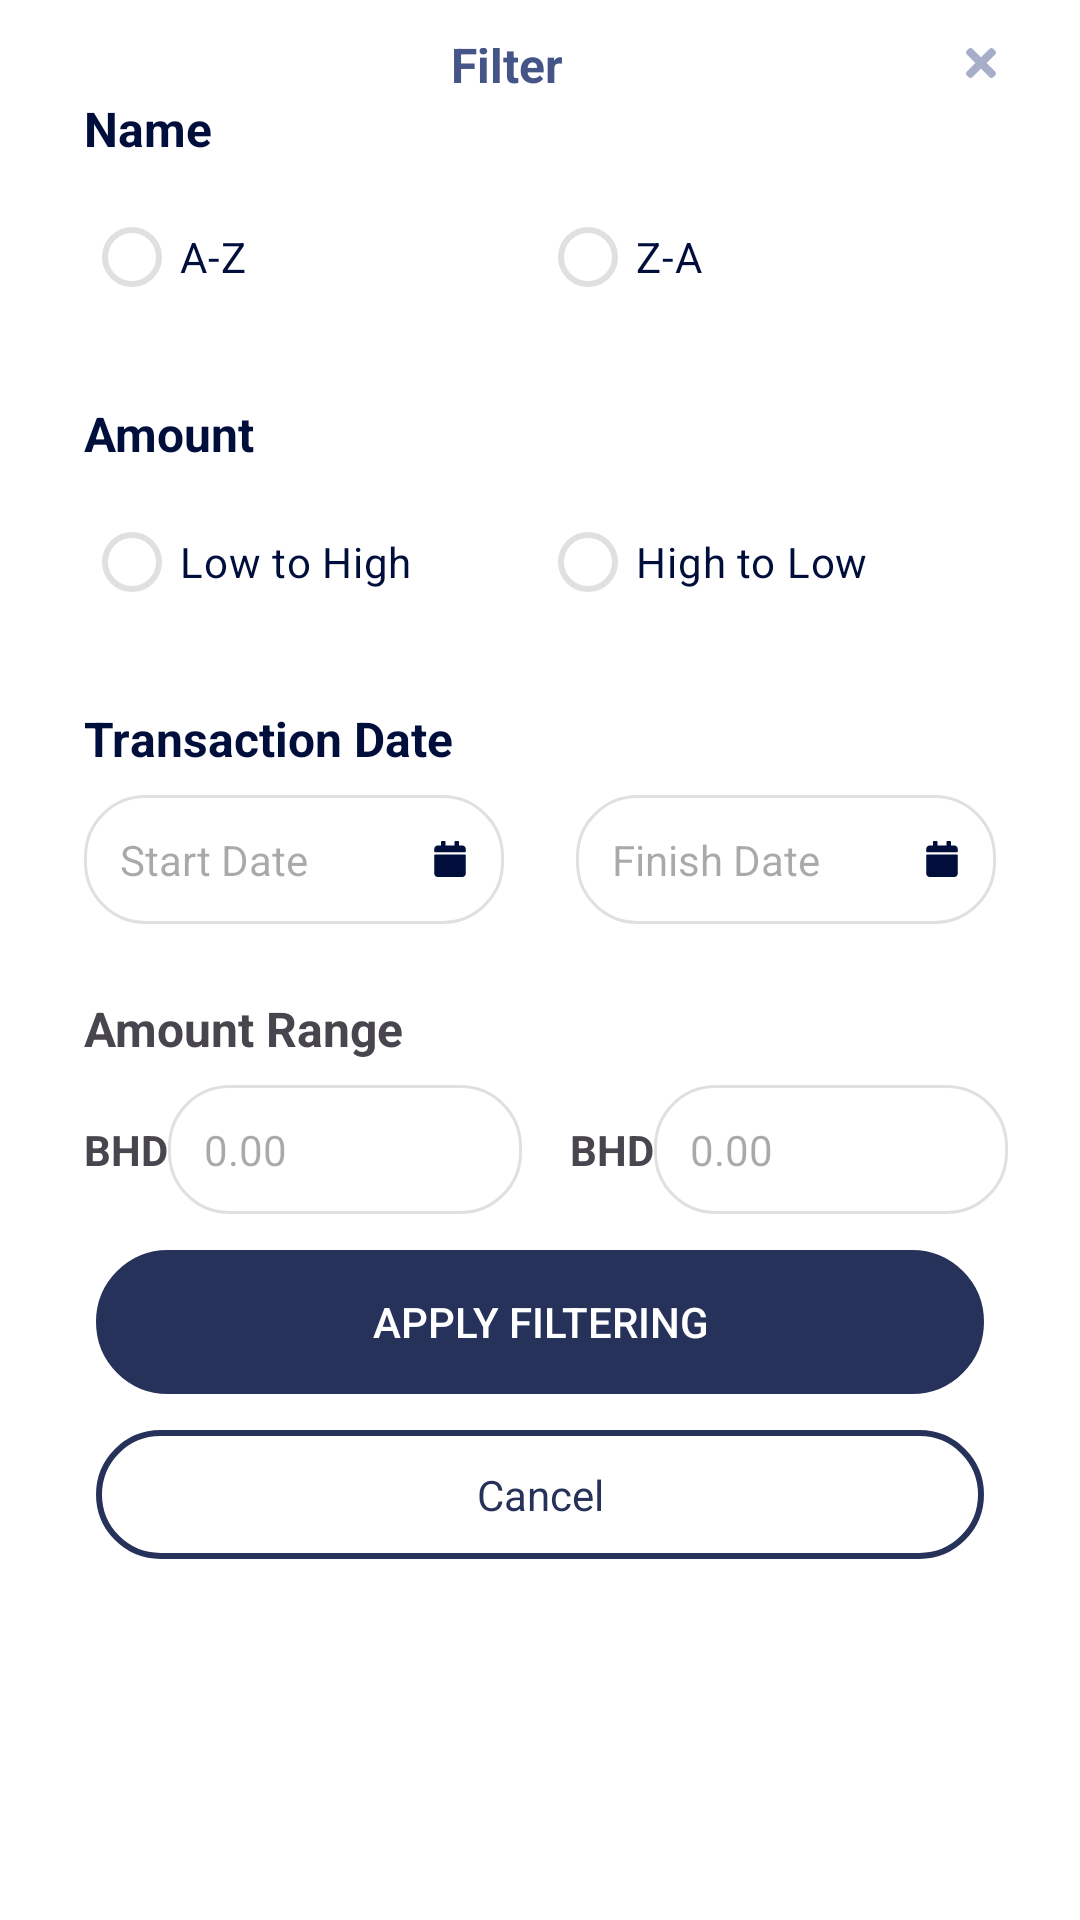

Icon bounding boxes for this 1080px×1920px phone screenshot, format bbox=[x1, y1, x2, y2]:
close: bbox=[966, 48, 996, 78]
